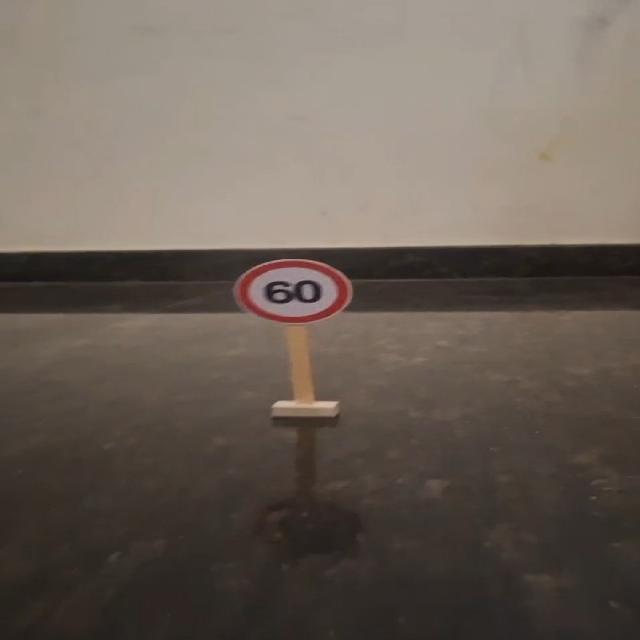Speed60: (232, 257, 358, 326)
